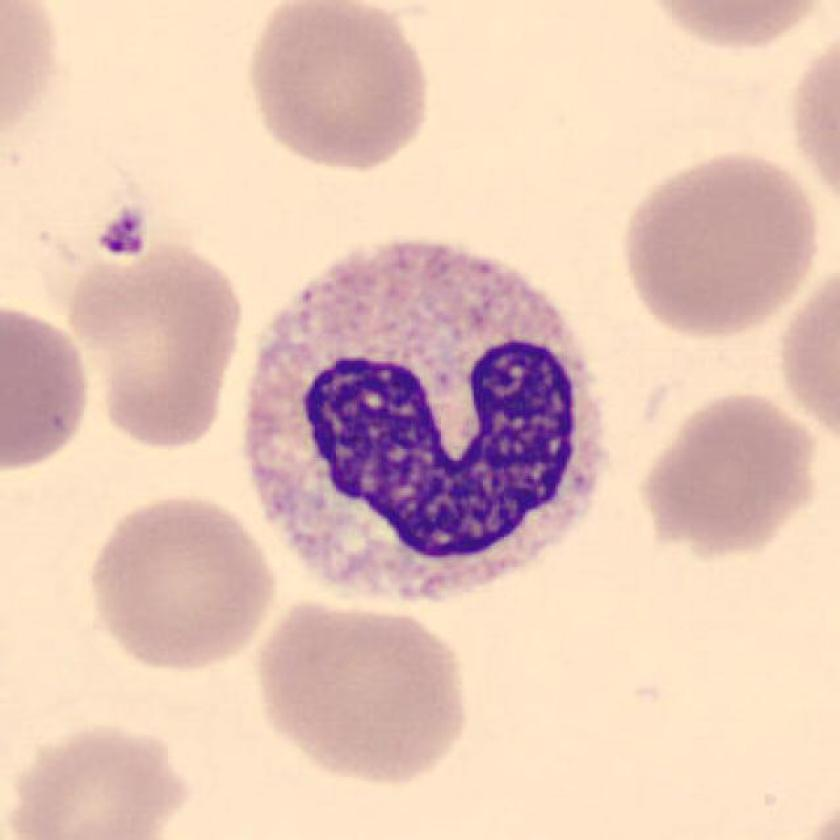neutrophil: (248, 243, 602, 598)
